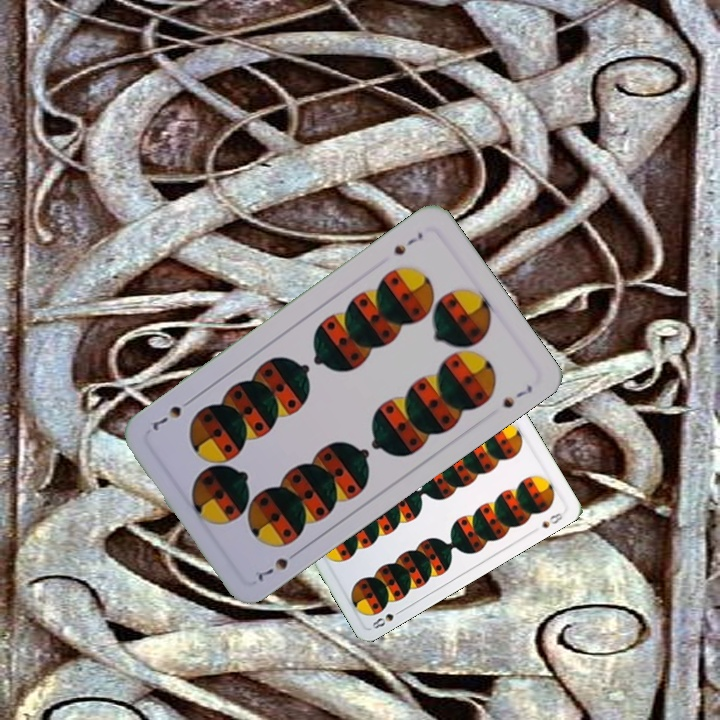S7: (253, 546, 303, 585), (389, 228, 426, 258)
S8: (368, 605, 406, 632)
